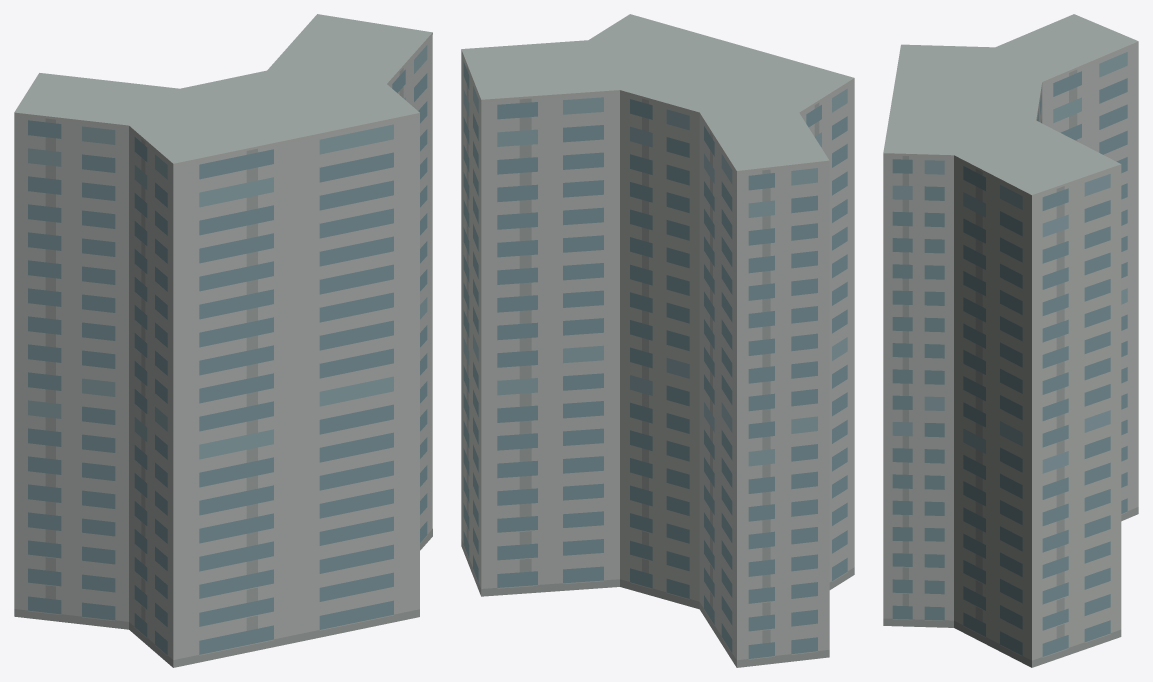
Rendered from residential-a65fdd68-57e6-4840-8cc7-effe5c93cffa.glb.
The picture shows the model from 3 angles, left to right: view 1: azimuth 30°, elevation 25°; view 2: azimuth 150°, elevation 25°; view 3: azimuth 270°, elevation 25°; orthographic projection. The views are drawn at different scales.
Parts seen in each view (by area): view 1: residential-a65fdd68-57e6-4840-8cc7-effe5c93cffa.tmp; view 2: residential-a65fdd68-57e6-4840-8cc7-effe5c93cffa.tmp; view 3: residential-a65fdd68-57e6-4840-8cc7-effe5c93cffa.tmp.
Part boxes in pixels (x1,y1,x2,y2): residential-a65fdd68-57e6-4840-8cc7-effe5c93cffa.tmp: (14,14,432,667); residential-a65fdd68-57e6-4840-8cc7-effe5c93cffa.tmp: (461,14,854,667); residential-a65fdd68-57e6-4840-8cc7-effe5c93cffa.tmp: (883,14,1138,667).
Bounding box in the file's own units: 43.58 × 53 × 25.97.
